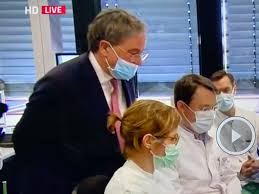mask_weared_incorrect: (105, 43, 148, 83)
with_mask: (146, 132, 187, 171), (186, 100, 221, 133), (215, 86, 237, 111)
